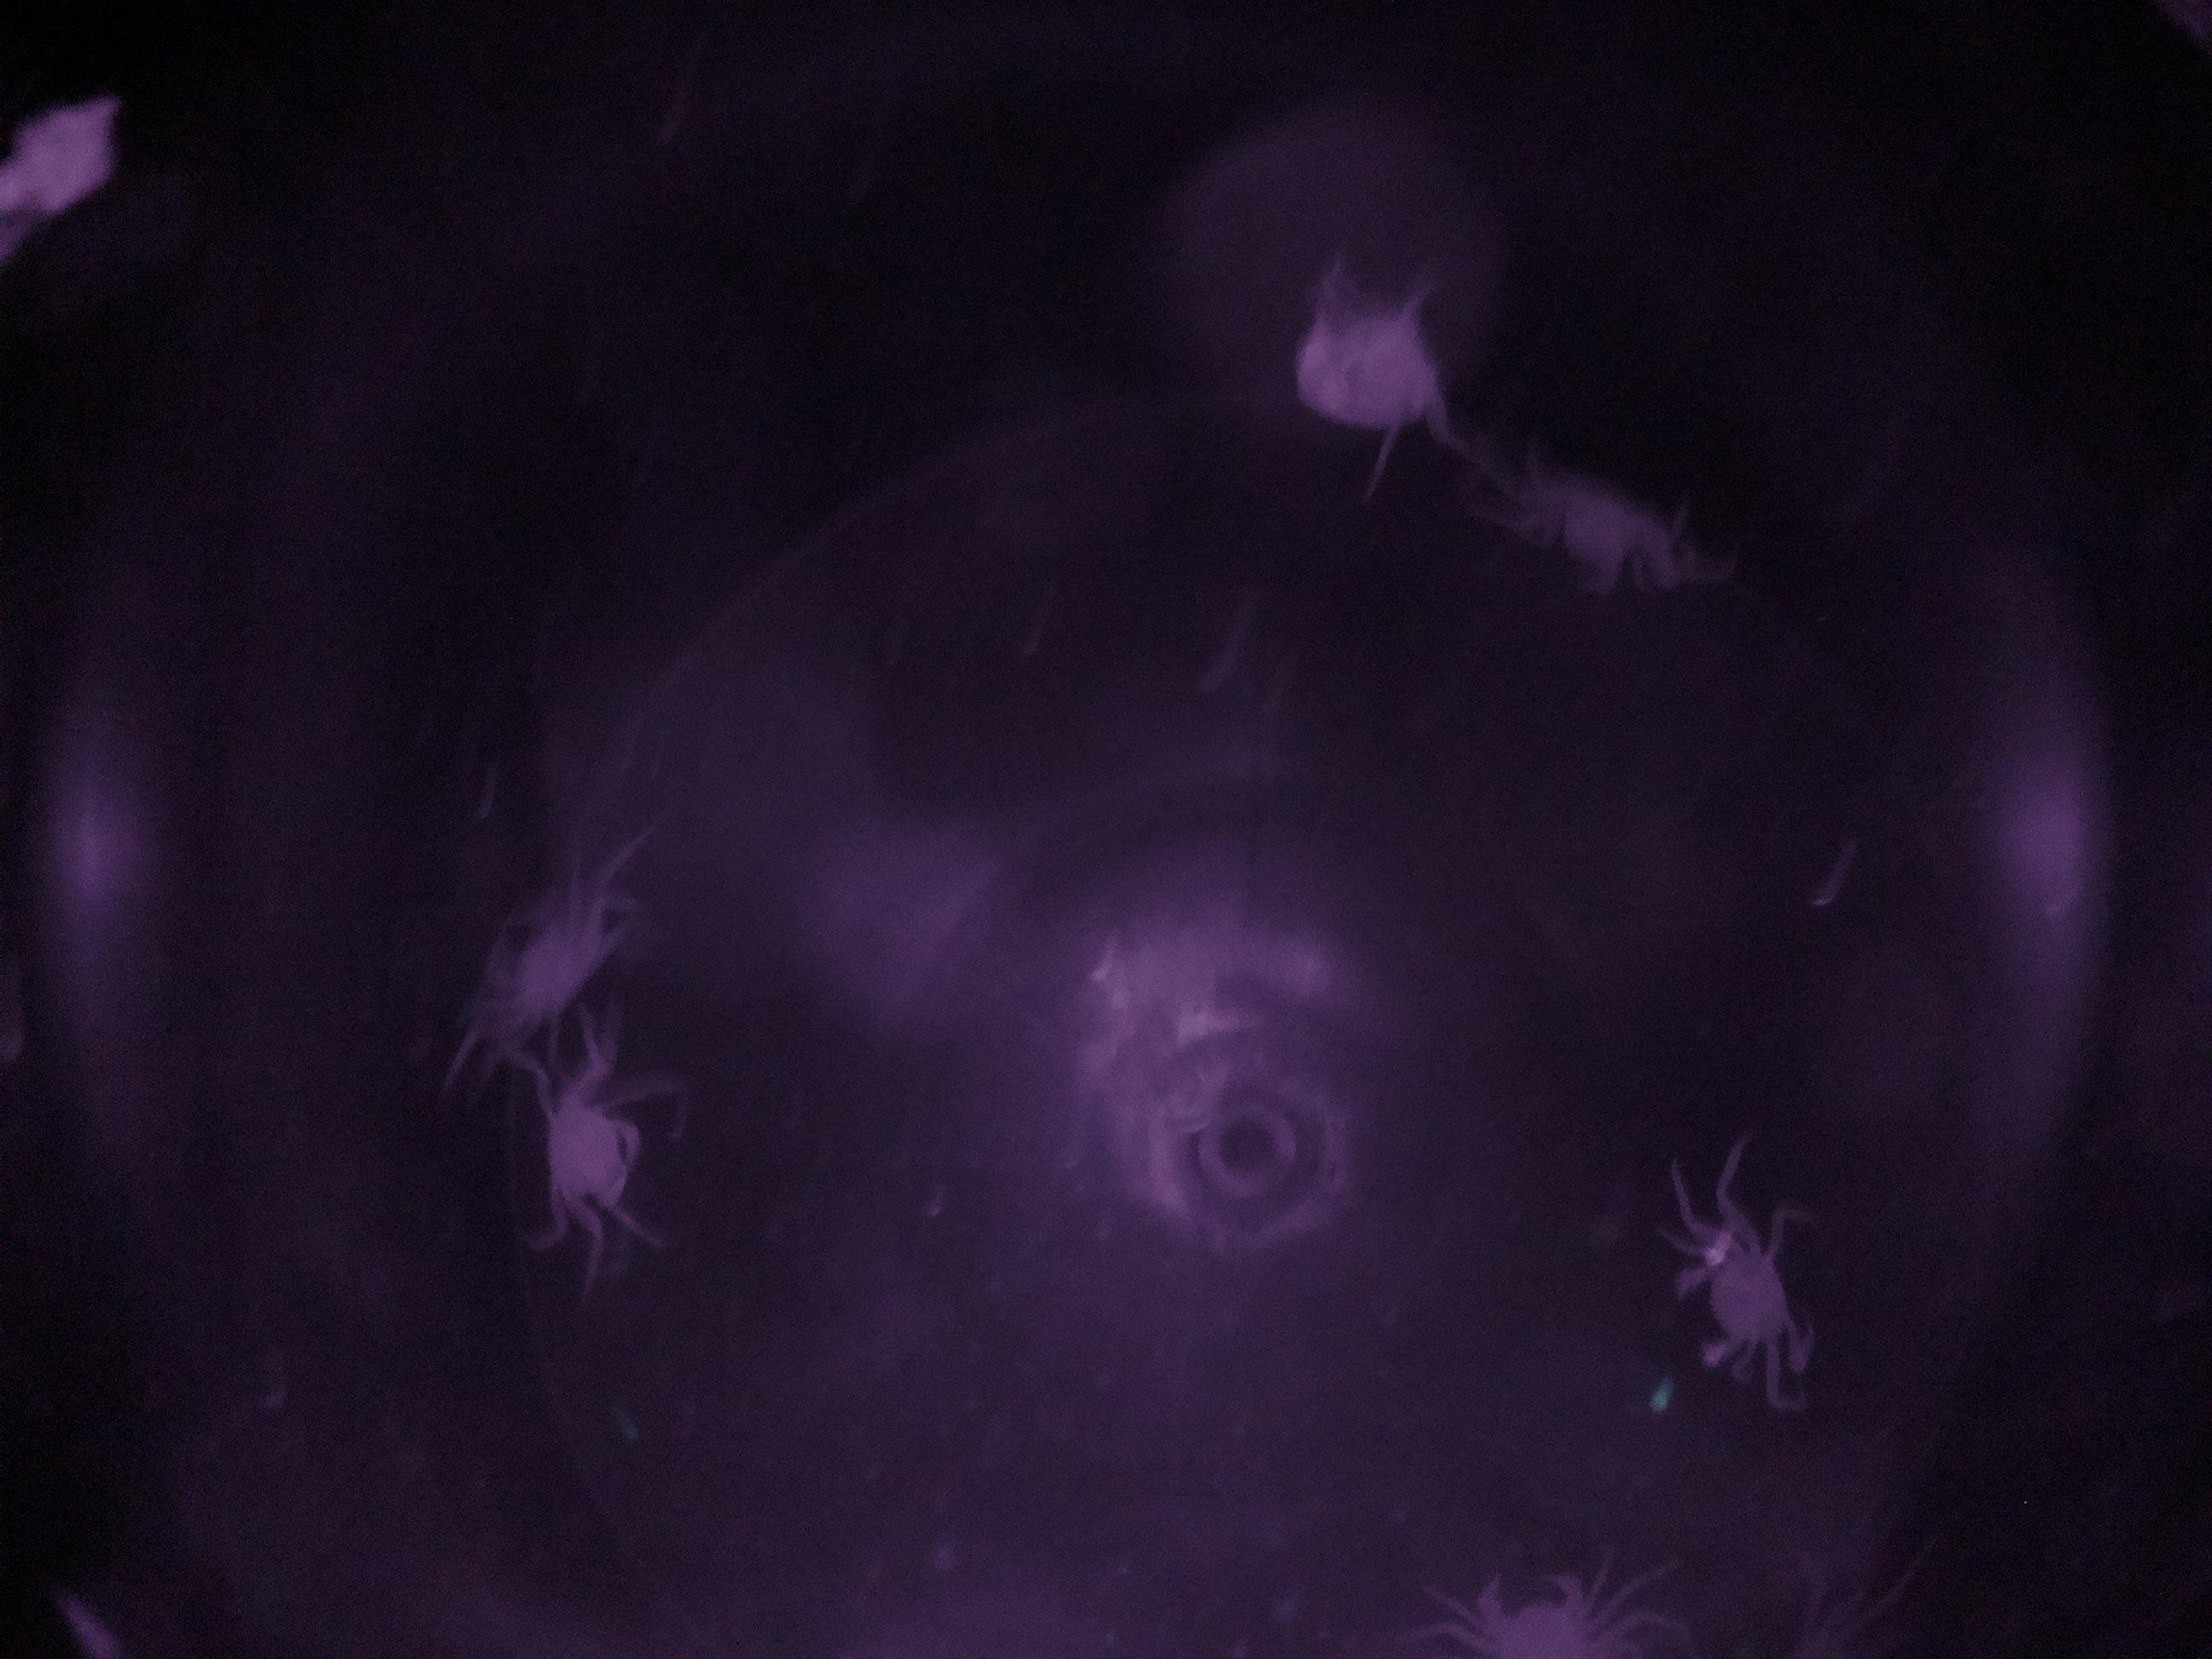Crab: (1662, 1197, 1831, 1396), (517, 1054, 667, 1239)
